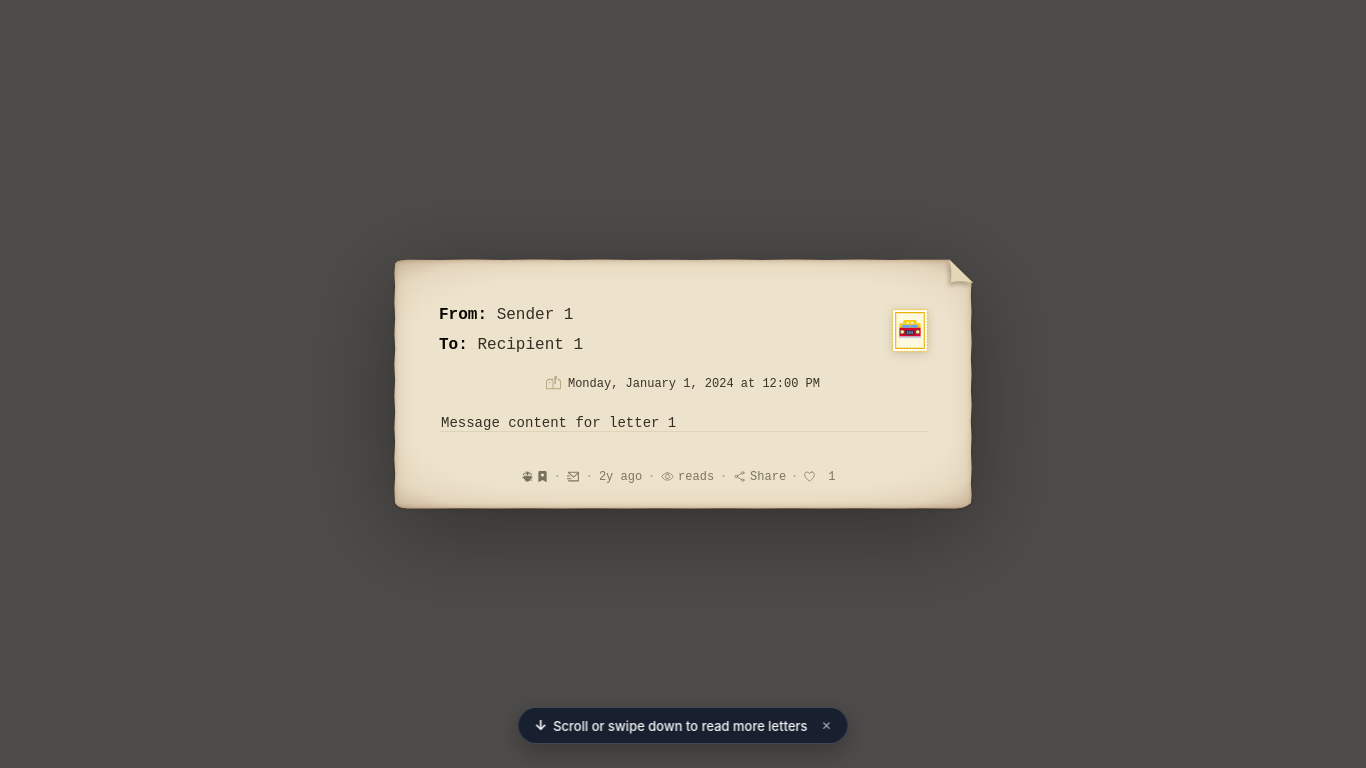
Test: Read Mode in DetailsModal › in readMode, first-timer tip is shown and dismisses on click
The image size is (1366, 768).
Expected: the message "↓ Scroll or swipe down to read more letters ✕" is shown, x1=517 y1=707 x2=849 y2=744
Expected: the message with class "read-mode-tip" shows "Scroll or swipe down to read more letters", x1=553 y1=718 x2=808 y2=734
Click the button with class "read-mode-tip__close".
click(825, 726)  # box x1=818 y1=720 x2=832 y2=732
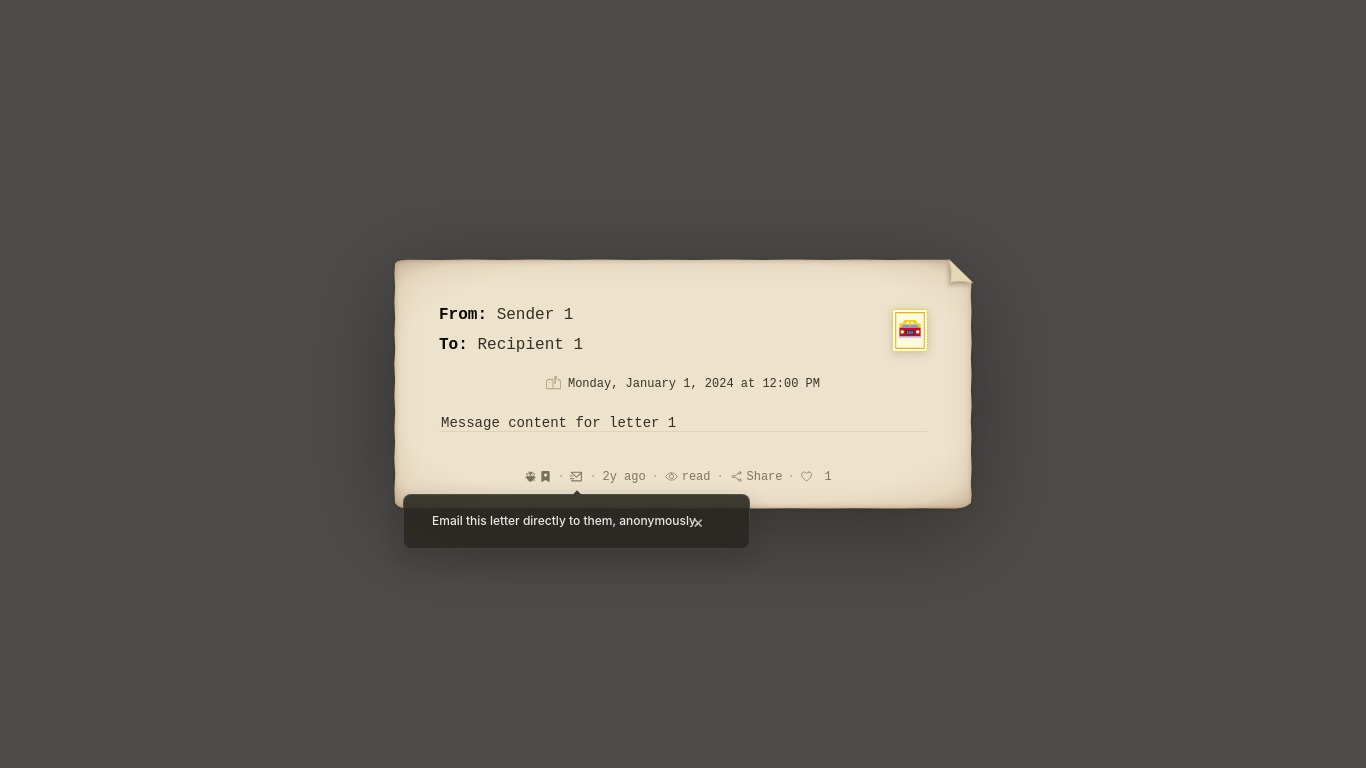
Expected: the message with class "read-mode-tip" is gone
